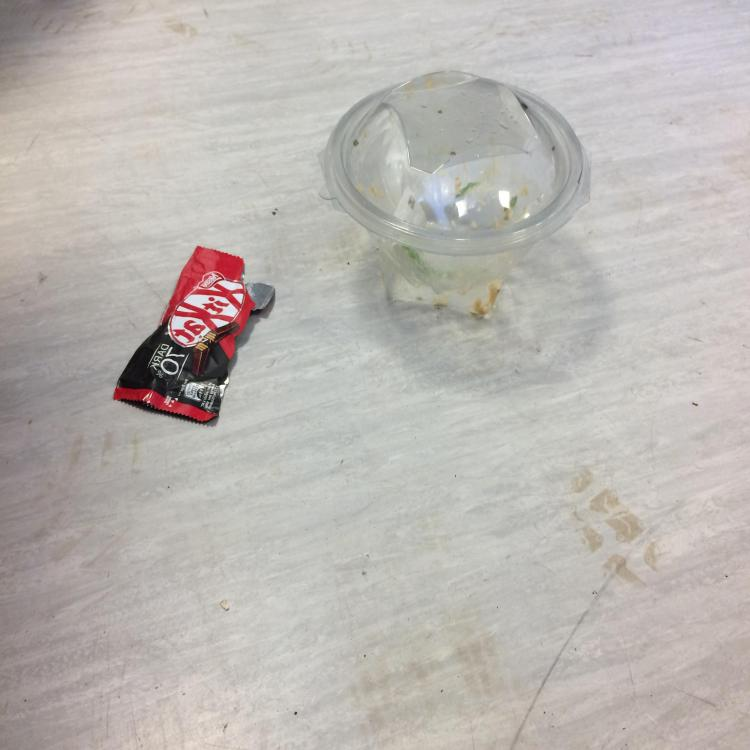Other plastic: (113, 246, 275, 422)
